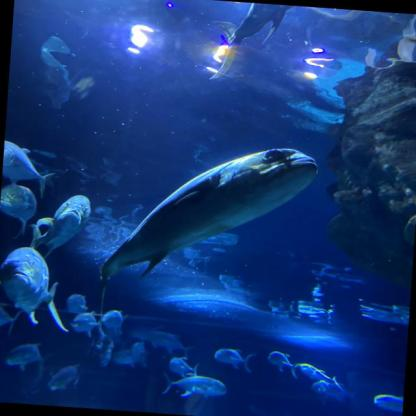fish: (100, 136, 320, 293), (210, 0, 306, 86), (0, 246, 73, 332), (29, 192, 91, 258), (1, 140, 57, 193), (0, 182, 38, 239), (163, 374, 228, 400), (6, 340, 50, 370), (311, 381, 362, 403), (47, 362, 80, 392), (213, 347, 254, 370), (148, 332, 190, 353), (266, 350, 301, 375), (70, 310, 104, 335), (94, 333, 116, 371), (112, 347, 148, 369), (299, 362, 337, 382), (0, 303, 21, 339), (372, 394, 402, 414), (168, 356, 200, 374), (130, 325, 165, 341), (104, 309, 127, 333), (66, 294, 89, 312)
